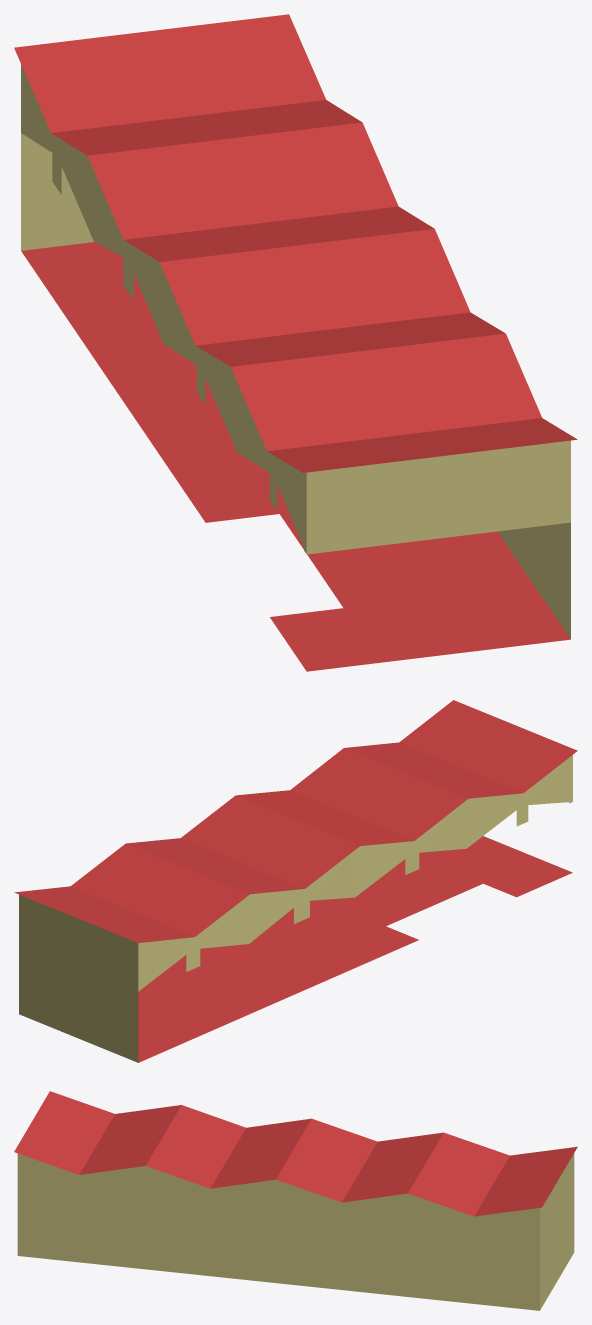
3 views of the same model, one above another, from view 1: azimuth 30°, elevation 25°; view 2: azimuth 150°, elevation 25°; view 3: azimuth 270°, elevation 25° (orthographic). The views are drawn at different scales.
Size of the model in its own units: 23.28 by 47.59 by 9.76.
